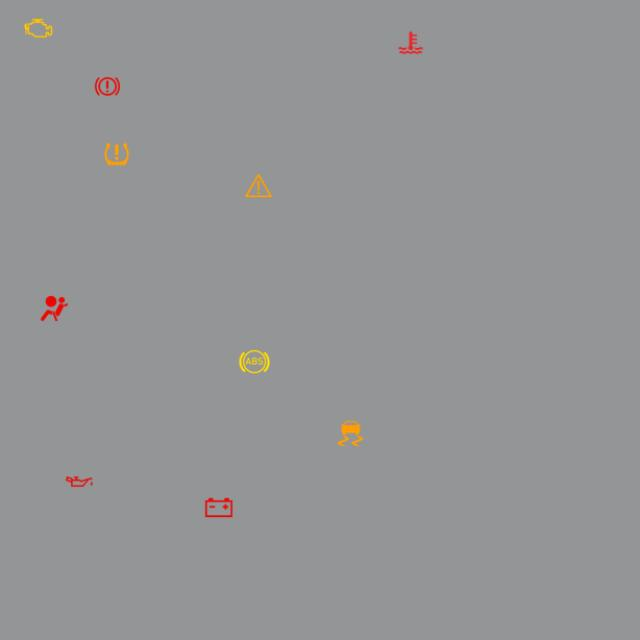Anti Lock Braking System: (238, 345, 271, 378)
Braking System Issue: (91, 70, 124, 103)
Charging System Issue: (202, 491, 236, 524)
Check Engine: (22, 11, 55, 45)
Electronic Stability Problem -ESP-: (333, 417, 367, 450)
Engine Overheating Warning Light: (394, 26, 427, 59)
Low Engine Oil Warning Light: (62, 465, 96, 498)
Low Tire Pressure Warning Light: (100, 138, 133, 171)
Master warning light: (242, 169, 275, 202)
SRS-Airbag: (37, 292, 71, 325)
